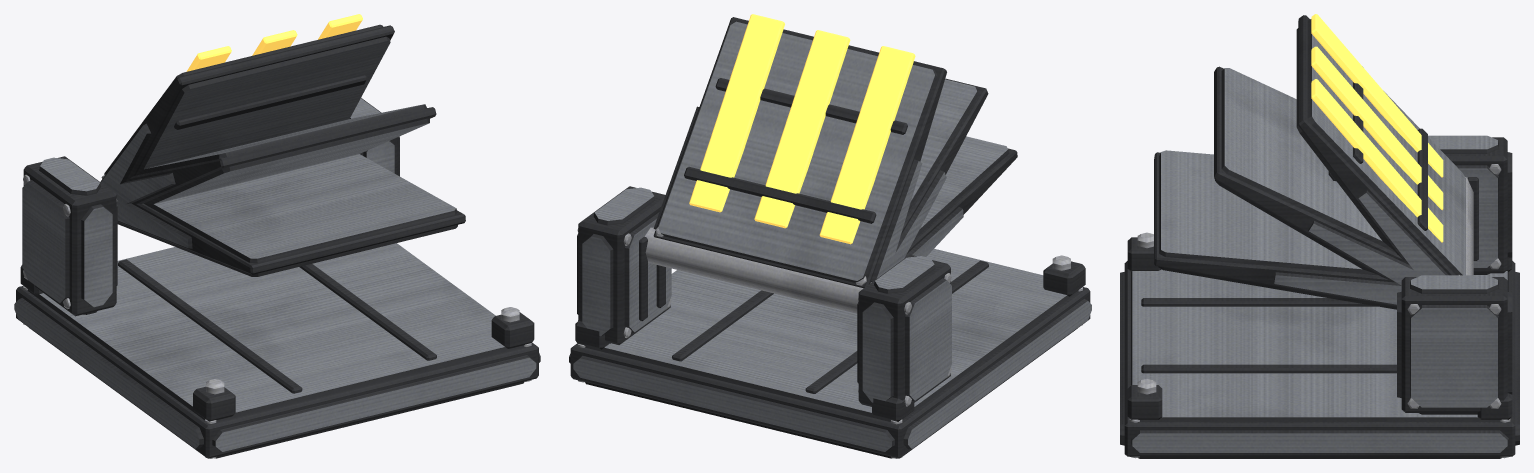
The model's file is R4X_RampDeployer.glb.
3 renders of one model, left to right at view 1: azimuth 30°, elevation 25°; view 2: azimuth 150°, elevation 25°; view 3: azimuth 270°, elevation 25°, orthographic. The views are drawn at different scales.
Parts seen in each view (by area): view 1: R4X_RampDeployer_Body; view 2: R4X_RampDeployer_Body; view 3: R4X_RampDeployer_Body.
Boxes of the visible parts, <box> form: R4X_RampDeployer_Body: <box>14,14,540,458</box>; R4X_RampDeployer_Body: <box>569,14,1091,458</box>; R4X_RampDeployer_Body: <box>1120,14,1519,458</box>.
Bounding box in the file's own units: 0.52 × 0.4673 × 0.52.
4 materials, 3 textured.
